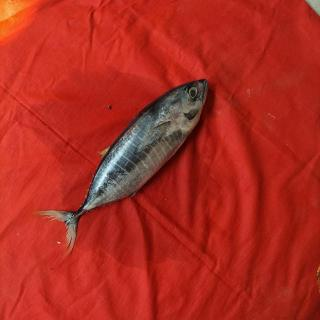Ikan: (38, 56, 230, 260)
